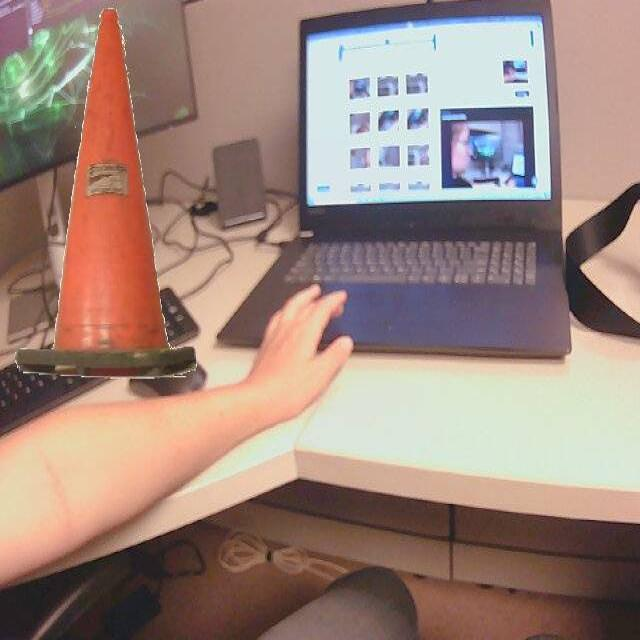traffic cone: (8, 2, 205, 390)
